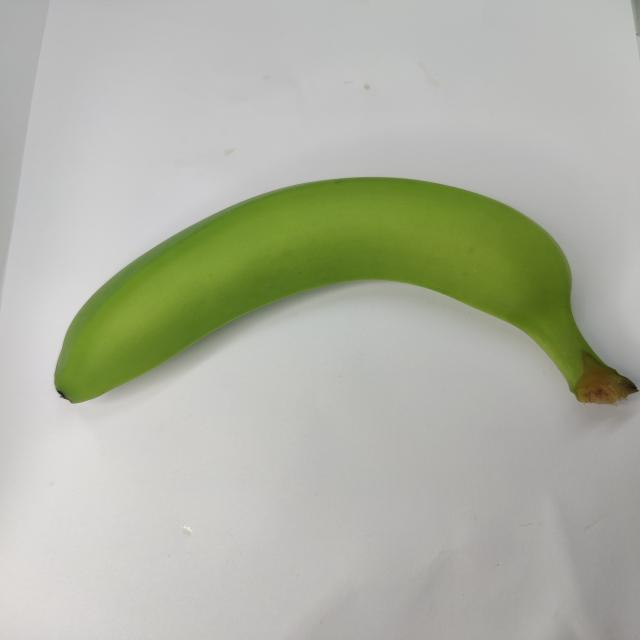raw: (30, 144, 640, 466)
